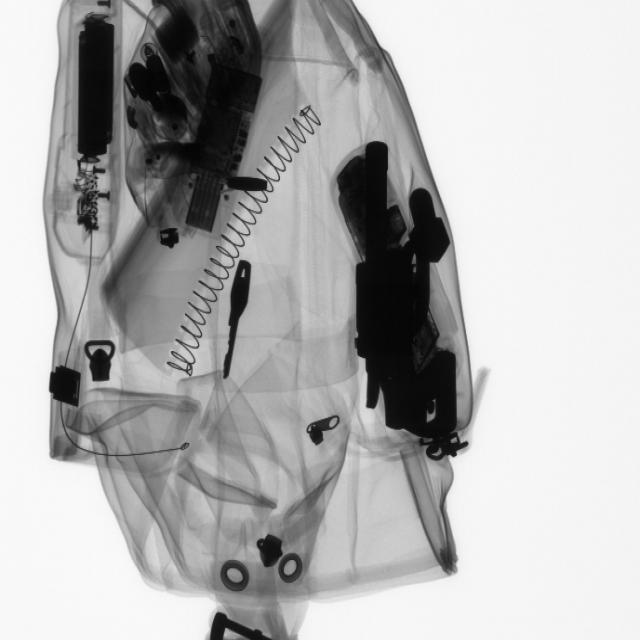GUN: (350, 131, 453, 483)
